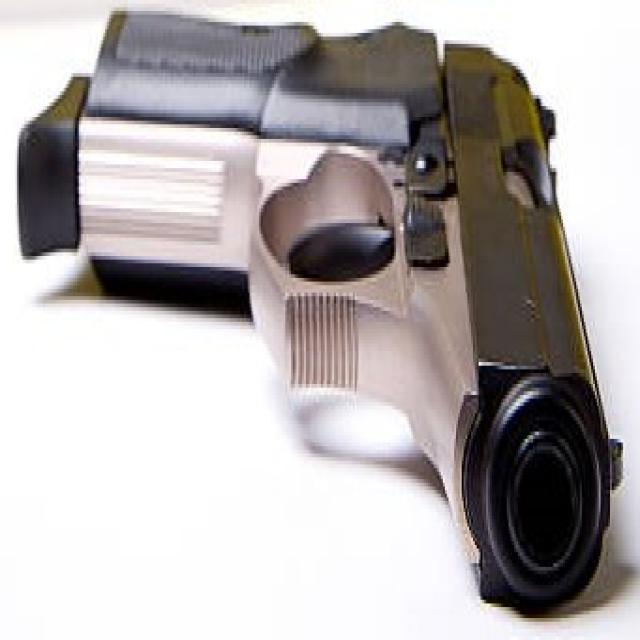pistol: (12, 3, 630, 629)
